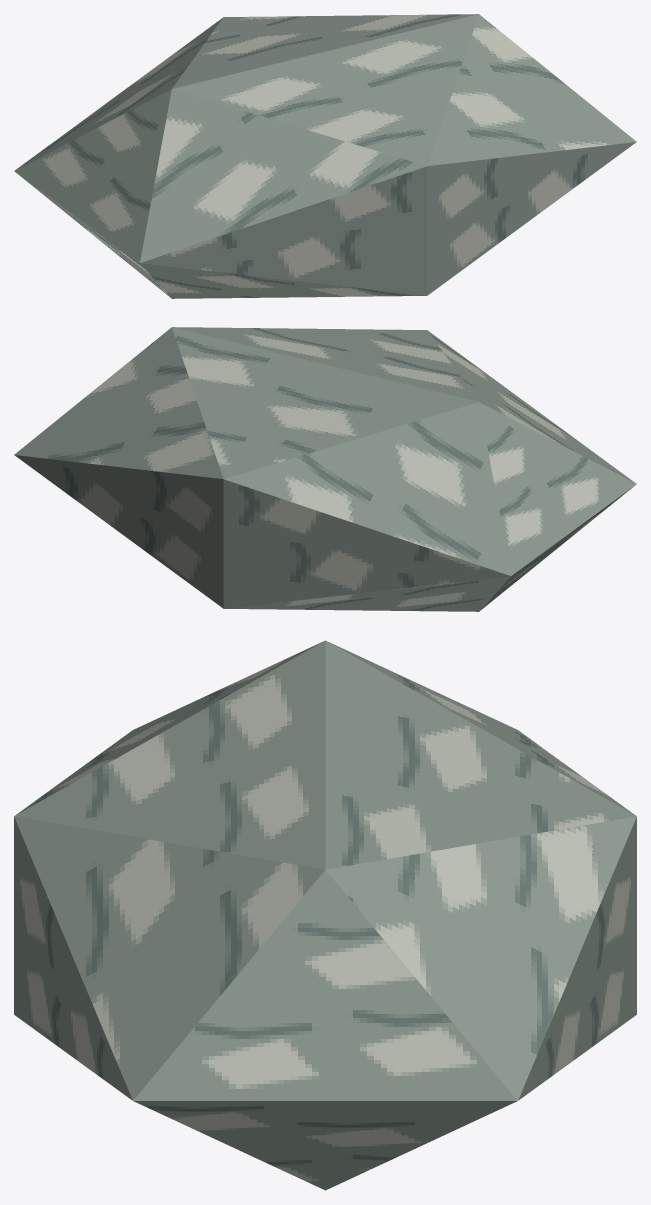
The model's file is pedra-seixo-v01.gltf.
3 views of the same model, one above another, from view 1: azimuth 30°, elevation 25°; view 2: azimuth 150°, elevation 25°; view 3: azimuth 270°, elevation 25° (orthographic). The views are drawn at different scales.
Visible parts, largest first — view 1: forma; view 2: forma; view 3: forma.
Boxes of the visible parts, x1,y1,x2,y2 form: forma: (14,14,636,298); forma: (14,327,636,611); forma: (14,640,636,1190).
Bounding box in the file's own units: 1.05 × 0.4253 × 0.7486.
1 material, 1 textured.
